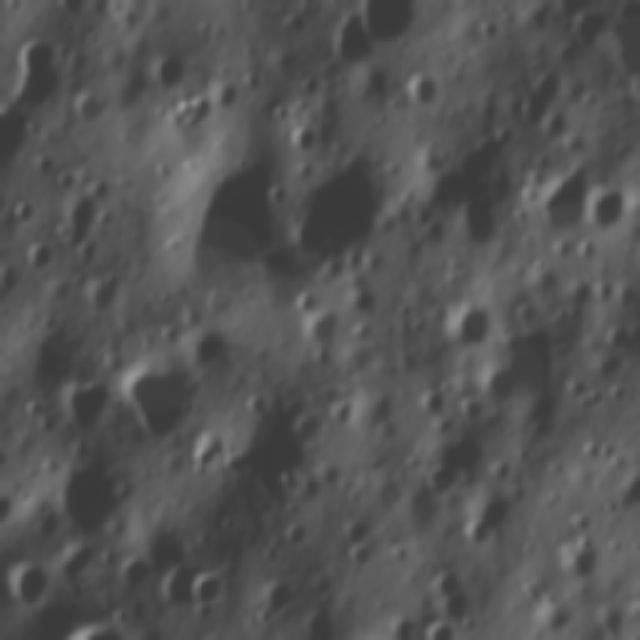crater: (151, 138, 286, 299), (216, 382, 330, 502), (282, 147, 388, 265), (113, 350, 210, 444), (476, 320, 564, 409), (45, 453, 128, 544), (6, 310, 88, 392), (0, 31, 65, 115), (408, 153, 467, 227), (533, 166, 593, 234), (56, 375, 115, 442), (62, 604, 153, 640), (148, 558, 201, 619), (3, 556, 60, 612), (353, 0, 418, 49), (248, 574, 300, 635), (326, 12, 374, 77), (578, 184, 640, 233), (463, 480, 519, 534), (0, 103, 40, 177), (440, 299, 494, 352), (184, 557, 236, 611), (168, 84, 214, 144), (68, 82, 114, 136), (433, 586, 490, 628), (300, 303, 346, 355), (187, 324, 231, 376), (554, 534, 600, 583), (107, 552, 153, 599), (143, 44, 186, 91), (529, 591, 574, 635), (185, 431, 230, 474), (86, 275, 128, 317), (420, 463, 463, 503), (421, 565, 467, 600), (202, 282, 244, 320), (322, 392, 364, 430), (457, 519, 503, 553), (281, 124, 324, 159), (277, 516, 315, 555), (4, 193, 44, 230), (21, 240, 59, 277), (293, 69, 330, 105), (416, 383, 452, 419), (456, 394, 492, 426), (570, 508, 599, 542), (421, 620, 468, 640), (343, 542, 374, 570), (0, 491, 20, 534), (0, 177, 12, 231), (0, 2, 8, 63)
